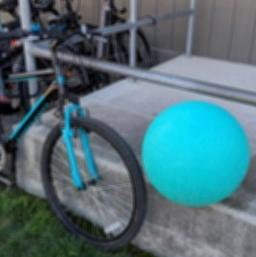algae: (138, 98, 249, 205)
